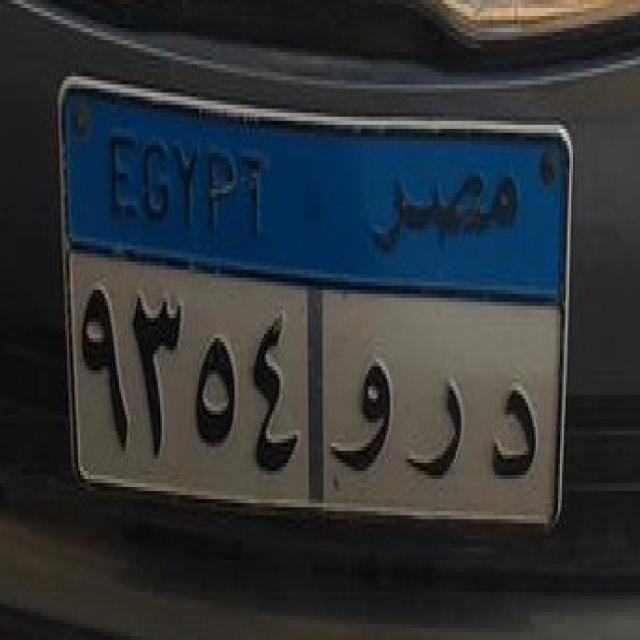3: (128, 290, 195, 465)
4: (238, 300, 300, 485)
5: (186, 325, 244, 454)
9: (72, 276, 136, 459)
R: (403, 362, 473, 498)
Wow: (334, 343, 399, 490)
daal: (482, 366, 547, 498)
